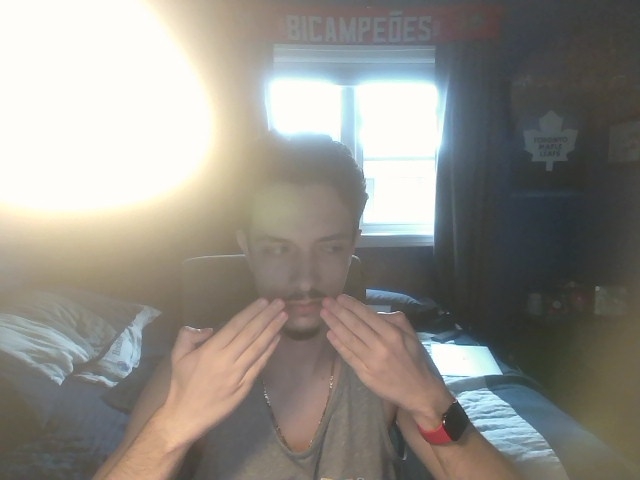ThankYou: (157, 294, 449, 418)
